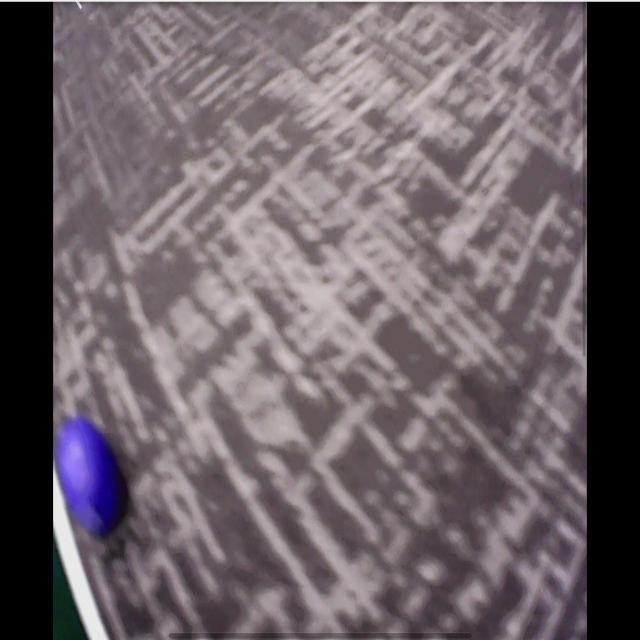ball: (58, 414, 124, 538)
